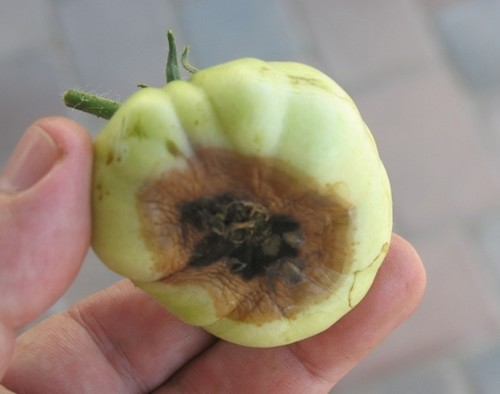blossom_rotw: (138, 138, 367, 326)
